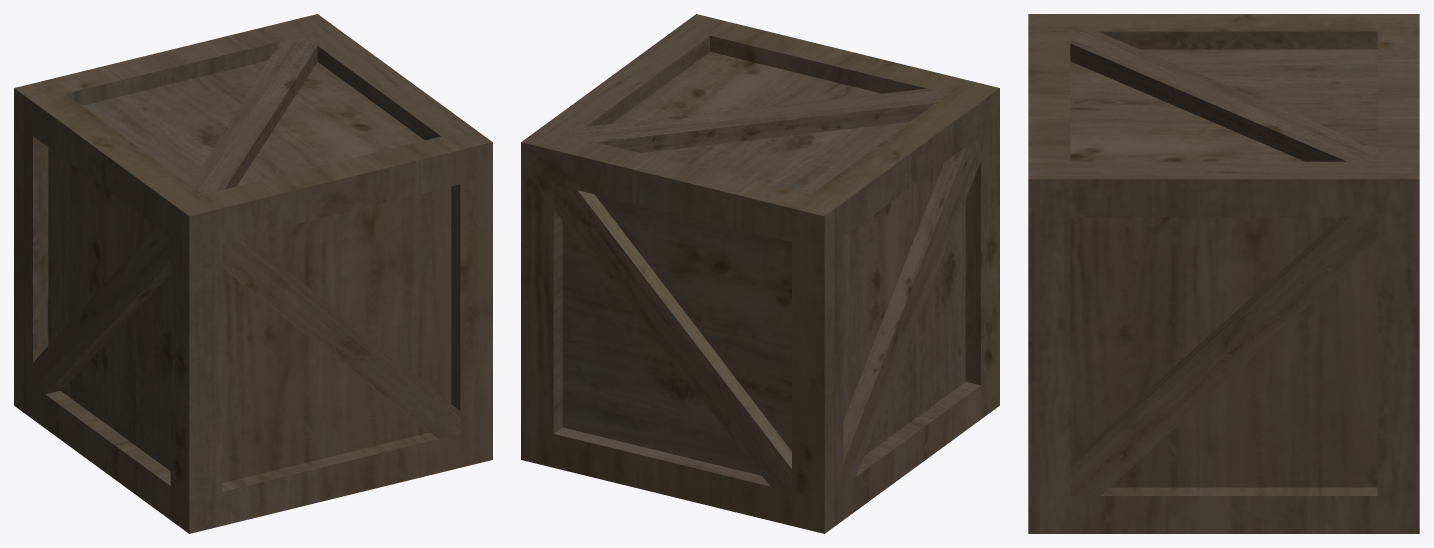
3 renders of one model, left to right at view 1: azimuth 30°, elevation 25°; view 2: azimuth 150°, elevation 25°; view 3: azimuth 270°, elevation 25°, orthographic. The views are drawn at different scales.
Parts seen in each view (by area): view 1: WoodenCrate; view 2: WoodenCrate; view 3: WoodenCrate.
Part boxes in pixels (<box>): WoodenCrate: <box>14,14,492,533</box>; WoodenCrate: <box>521,14,999,533</box>; WoodenCrate: <box>1028,14,1419,533</box>.
Bounding box in the file's own units: 200 × 200 × 200.
Materials: 1 (1 with a texture image).
